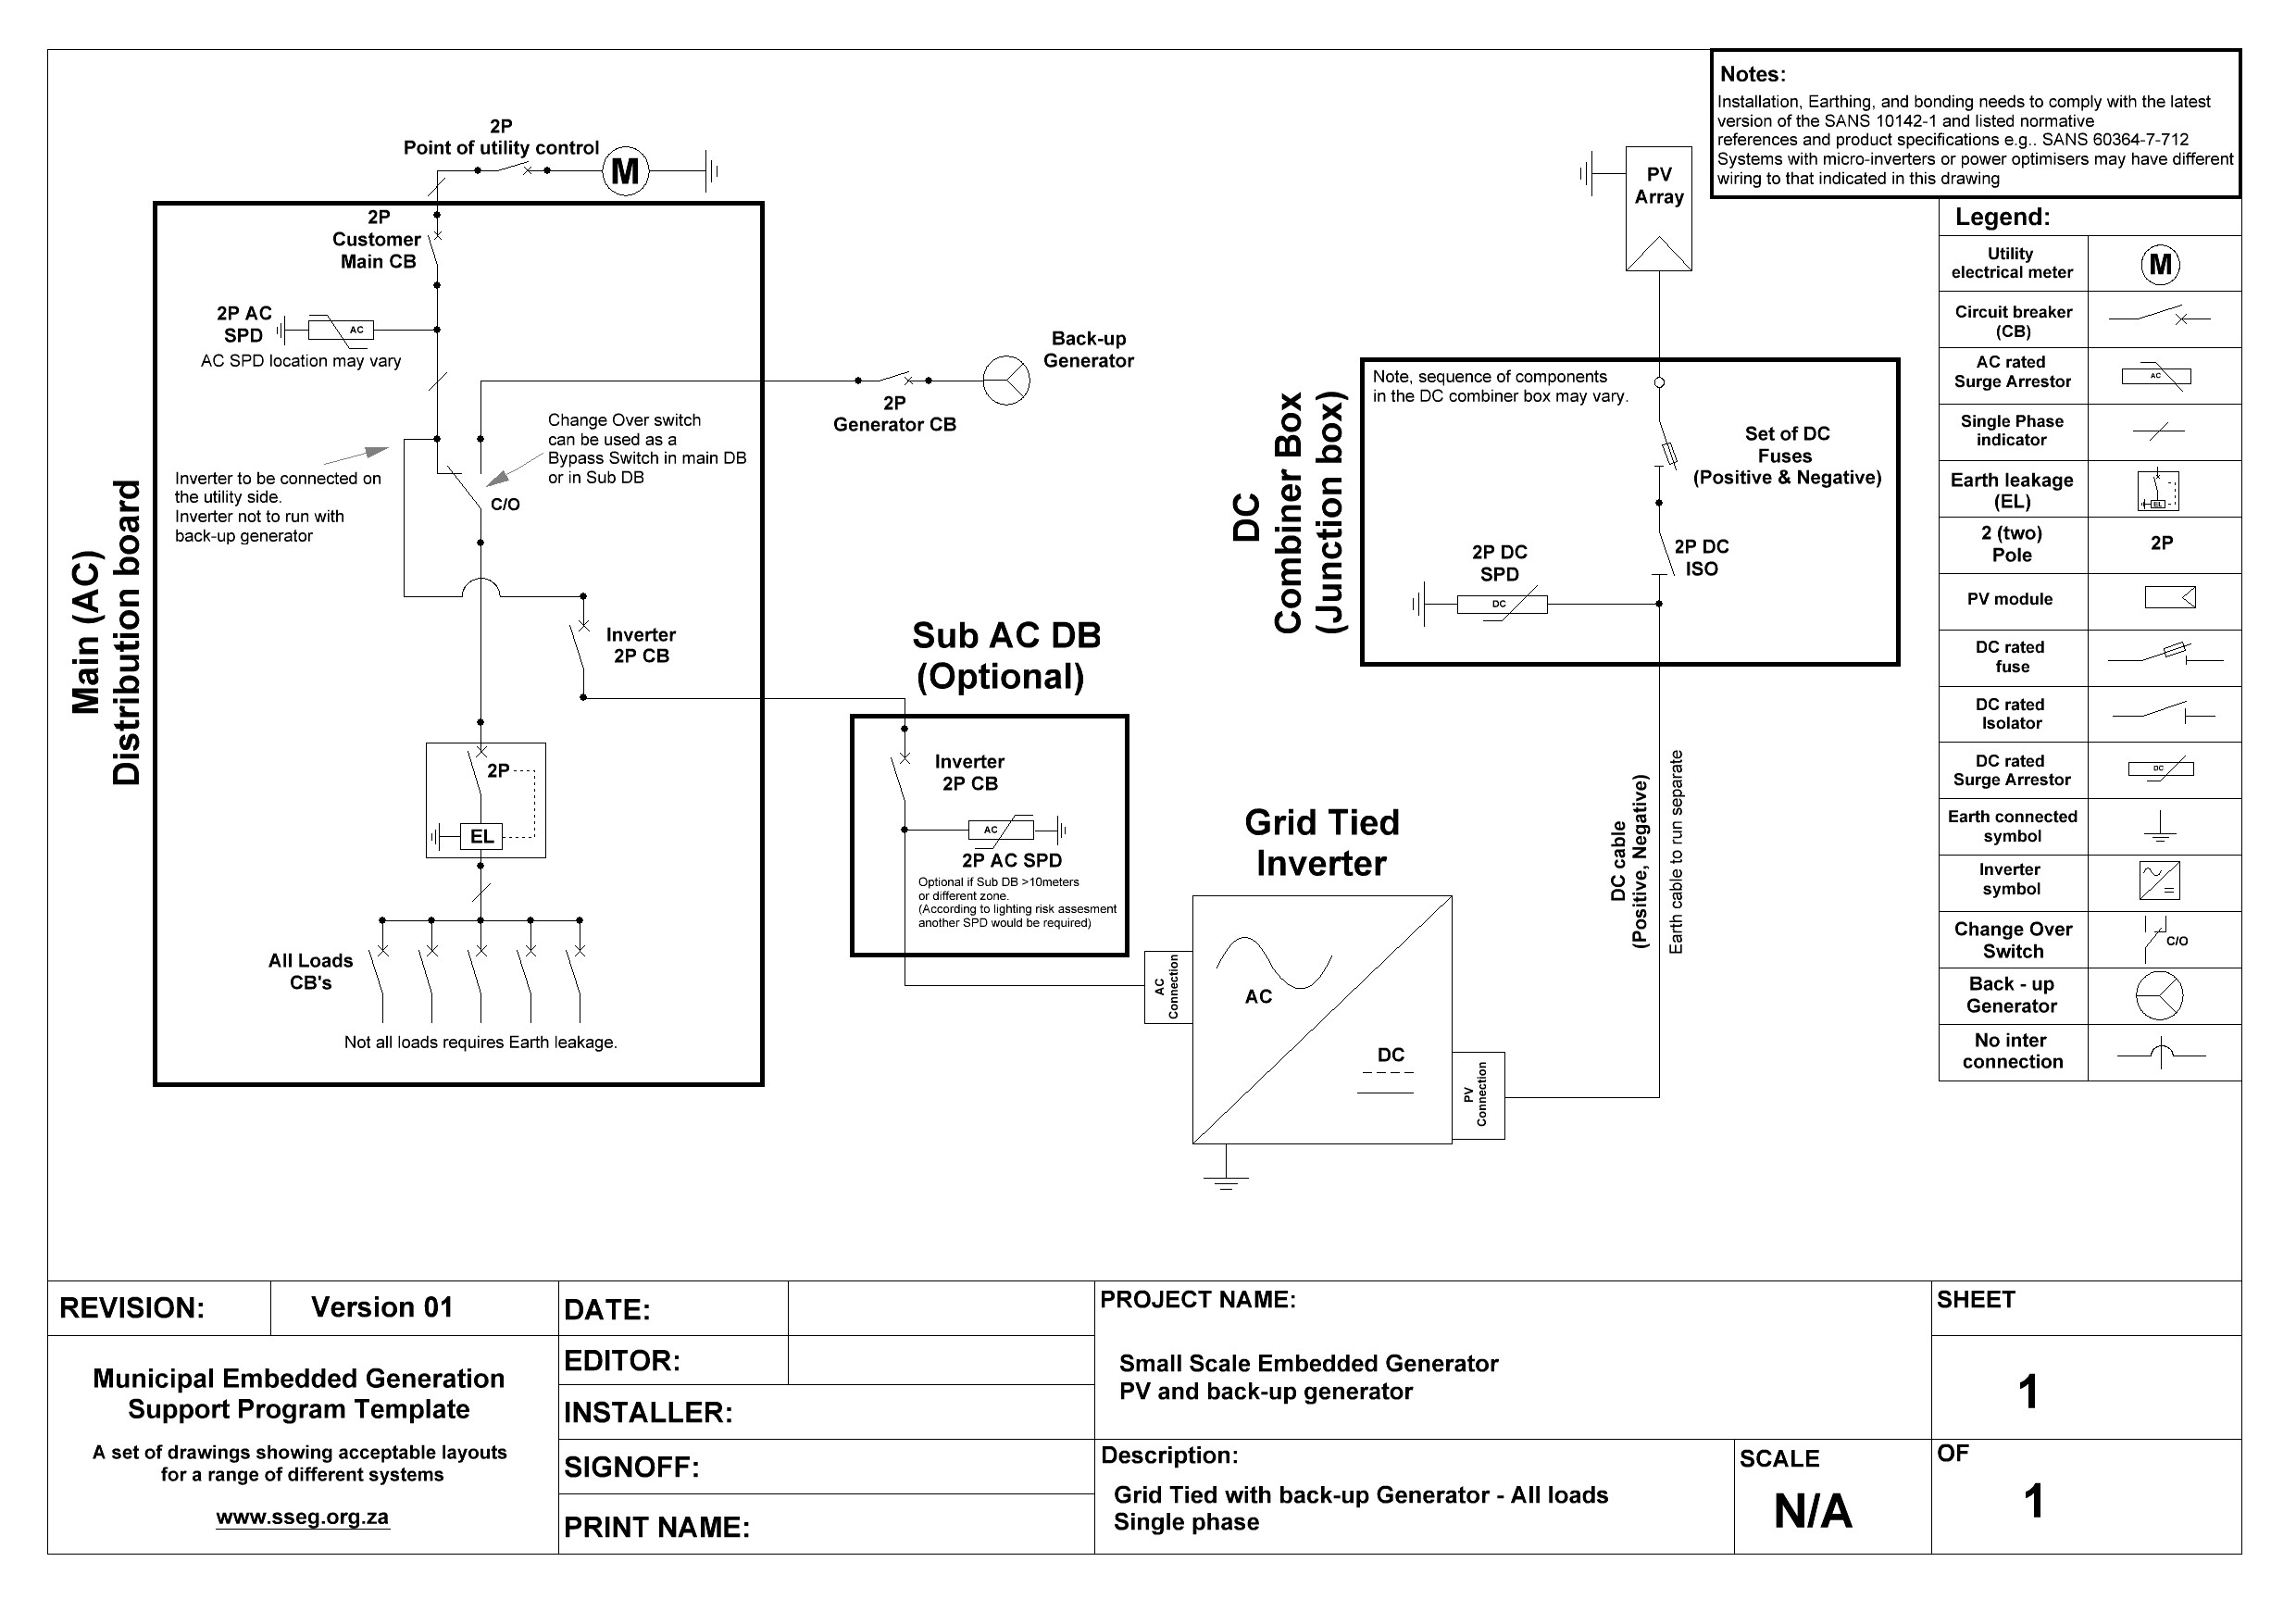fuse: (1634, 406, 1685, 489)
ground: (1527, 97, 1613, 230), (1175, 1160, 1293, 1211), (1390, 559, 1449, 643), (685, 135, 738, 202), (249, 295, 297, 357), (416, 807, 451, 861), (1043, 803, 1077, 852)
switch: (427, 439, 516, 520), (873, 736, 929, 816), (451, 742, 516, 808), (552, 603, 601, 687), (1625, 518, 1679, 594), (355, 924, 399, 1009), (555, 932, 599, 1012), (462, 930, 501, 1005), (411, 932, 446, 1012), (513, 933, 548, 1007), (418, 221, 455, 274), (485, 156, 543, 183)
